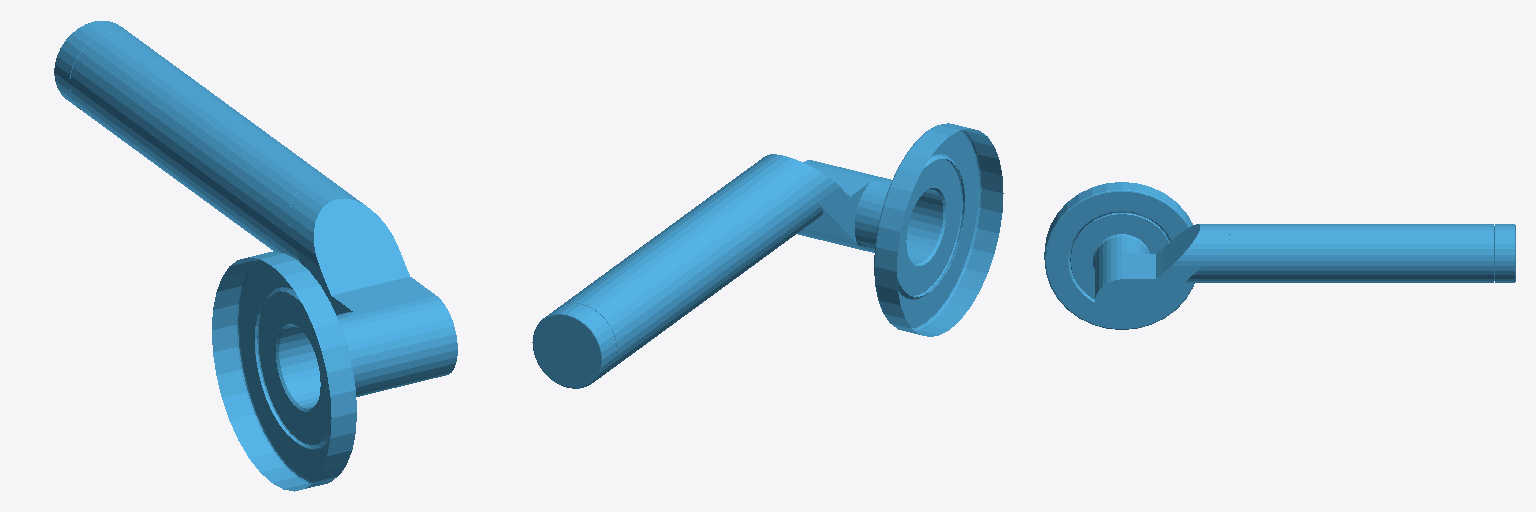
robot.urdf — door_robot:
?
<!--<?xml version="1.0"?>-->

<robot name="door_robot" >

    <link name="world" />

    <!-- door-->
    
    <link name="door_plane">

        <visual>
            <origin xyz="0 0 0" />
            <geometry>
                <mesh filename="handle_1.obj" rpy="0 0 0" />
            </geometry>
        </visual>
        <!--
        <inertial>
            <origin xyz="0 0 0" />
            <mass value="2.6409912742551773" />
            <inertia ixx="0.0" ixy="0.0" ixz="0.0" iyy="0.0" iyz="0.0" izz="0.0" />
        </inertial>
        <collision>
            <origin xyz="-0.148404 0.486267 4.17233e-07" />
            <geometry>
                <mesh filename="door2.obj" rpy="0 0 0" />
            </geometry>
        </collision>
        -->
    </link>
    
    <!--
    <link name="door_handle">
        <visual>
            <origin xyz="0 0 0" />
            <geometry>
                <mesh filename="obj/handle_edited.obj" rpy="0 0 0" />
            </geometry>
        </visual>
    
        <inertial>
            <origin xyz="0 0 0" />
            <mass value="2.6409912742551773" />
            <inertia ixx="0.0" ixy="0.0" ixz="0.0" iyy="0.0" iyz="0.0" izz="0.0" />
        </inertial>
        <collision>
            <origin xyz="-0.148404 0.486267 4.17233e-07" />
            <geometry>
                <mesh filename="handle_edited.obj" rpy="0 0 0" />
            </geometry>
        </collision>
        
    </link>
    -->

    <joint name="world_door" type="fixed">
        <origin xyz="0 0 1" rpy="0 0 0" />
        <parent link="world" />
        <child link="door_plane" />
        <axis xyz="0 0 0" />
        <dynamics friction="0.4960139088111456" />
        <limit lower="0.0" upper="1.57"/>
    </joint>
    
    <!--
    <joint name="door_handle" type="fixed">
        <origin xyz="0 0 0" rpy="0 0 0" />
        <parent link="door_plane" />
        <child link="door_handle" />
        <axis xyz="0 0 0" />
        <dynamics friction="0.4960139088111456" />
        <limit lower="0.0" upper="1.57"/>
    </joint>
    -->
        
    

    
        

</robot>

--- Render facts (derived) ---
The picture shows the robot from 3 angles, left to right: view 1: azimuth 30°, elevation 25°; view 2: azimuth 150°, elevation 25°; view 3: azimuth 270°, elevation 25°; orthographic projection.
Model door_robot with 2 links and 1 joints (1 fixed), rooted at world, posed every joint at zero.
Links seen in each view (by area): view 1: door_plane; view 2: door_plane; view 3: door_plane.
Boxes of the visible links, bbox=[...] form: door_plane: bbox=[54, 21, 457, 491]; door_plane: bbox=[532, 123, 1003, 388]; door_plane: bbox=[1044, 182, 1515, 329].
Size in the robot's own frame: 0.0364 by 0.1392 by 0.0458 metres.
1 mesh visuals loaded from 1 distinct referenced files (1 OBJ).